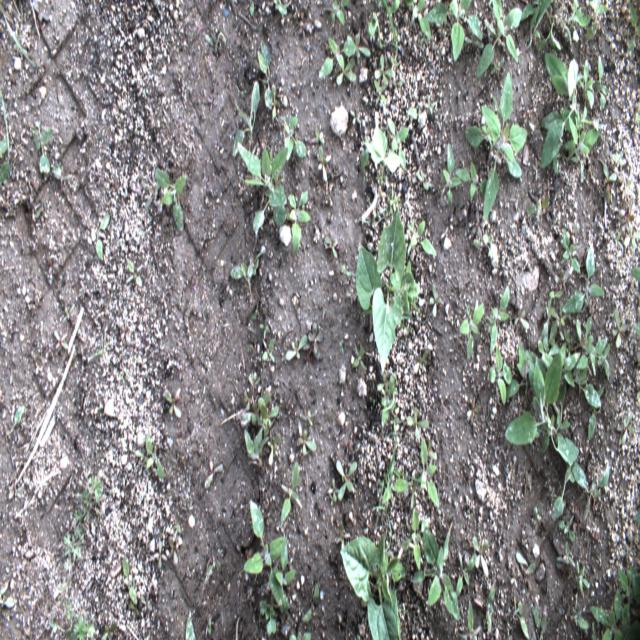crop: (355, 208, 421, 373), (340, 533, 406, 638), (361, 124, 403, 185)
weed: (466, 70, 528, 222), (505, 354, 580, 464), (372, 432, 429, 551), (243, 498, 287, 614), (540, 52, 584, 167), (236, 141, 288, 234), (413, 521, 460, 621), (475, 0, 521, 81), (425, 0, 483, 62), (521, 0, 590, 52), (562, 244, 604, 314), (552, 121, 601, 176), (0, 4, 38, 71), (506, 342, 546, 402), (360, 300, 430, 334), (572, 458, 609, 520), (232, 80, 260, 158), (154, 168, 188, 231), (537, 324, 581, 372), (540, 105, 601, 134), (592, 588, 624, 639), (402, 508, 428, 569), (488, 284, 510, 355), (487, 344, 512, 406), (458, 301, 484, 359), (289, 191, 312, 256), (551, 456, 574, 521), (319, 38, 356, 78), (74, 473, 103, 522), (420, 435, 439, 508), (136, 433, 165, 479), (382, 453, 408, 504), (564, 372, 601, 407), (386, 116, 409, 171), (576, 338, 608, 377), (230, 255, 259, 298), (455, 161, 487, 199), (376, 0, 401, 48), (259, 595, 289, 635), (280, 460, 299, 522), (358, 194, 398, 223), (258, 38, 273, 112), (404, 0, 431, 41), (407, 218, 436, 255), (443, 142, 460, 205), (455, 550, 477, 598), (242, 372, 261, 426), (284, 117, 306, 163), (275, 538, 296, 586), (256, 392, 278, 436), (588, 386, 605, 442), (336, 459, 358, 501), (32, 126, 52, 172), (618, 566, 640, 607), (380, 374, 396, 428), (586, 0, 608, 39), (562, 228, 580, 274), (625, 0, 639, 57), (123, 553, 138, 606), (596, 56, 610, 112), (66, 614, 96, 640), (244, 428, 268, 460), (95, 212, 110, 262), (0, 87, 10, 162), (62, 528, 84, 562), (374, 52, 396, 86), (472, 535, 489, 578), (406, 406, 428, 439), (580, 59, 594, 110), (513, 596, 529, 640), (367, 11, 384, 51), (285, 334, 310, 361), (621, 604, 640, 639), (302, 583, 319, 621), (612, 305, 626, 350), (576, 315, 594, 350), (531, 605, 549, 639), (347, 33, 371, 58), (336, 56, 356, 85), (603, 163, 617, 204), (466, 602, 481, 640), (205, 457, 222, 490), (307, 321, 323, 356), (8, 404, 25, 436), (297, 430, 317, 457), (331, 0, 350, 28), (596, 342, 610, 380), (428, 282, 442, 318), (318, 144, 331, 182), (556, 541, 575, 567), (526, 196, 550, 216), (487, 581, 496, 634), (0, 580, 17, 608), (576, 558, 590, 592), (515, 551, 534, 575), (204, 559, 222, 584), (127, 258, 142, 288), (621, 410, 634, 444), (165, 391, 181, 418), (623, 225, 640, 250), (558, 515, 575, 540), (154, 540, 168, 568), (268, 433, 280, 465), (464, 29, 484, 48), (413, 351, 429, 374), (354, 342, 366, 372), (166, 535, 178, 565), (416, 168, 432, 190), (323, 236, 338, 259), (573, 608, 590, 628), (262, 337, 275, 363), (374, 80, 386, 108), (328, 478, 340, 503), (140, 590, 152, 614), (546, 300, 559, 322), (185, 615, 196, 640), (300, 410, 316, 426), (101, 622, 116, 639), (288, 630, 312, 640), (272, 0, 288, 15), (515, 312, 529, 328), (348, 108, 361, 125), (424, 95, 435, 115), (610, 230, 622, 248), (612, 152, 626, 167), (409, 106, 424, 120), (259, 324, 270, 342), (426, 441, 437, 459), (272, 84, 277, 122), (1, 162, 10, 183), (559, 306, 568, 327), (377, 376, 388, 393), (510, 568, 519, 588), (0, 137, 8, 159), (339, 265, 352, 278), (390, 416, 402, 430), (631, 266, 640, 283), (547, 290, 564, 299), (206, 617, 212, 637), (392, 78, 404, 88), (636, 93, 640, 123), (633, 322, 640, 339), (634, 511, 640, 526), (535, 504, 540, 522), (250, 0, 254, 17), (592, 624, 596, 640)
